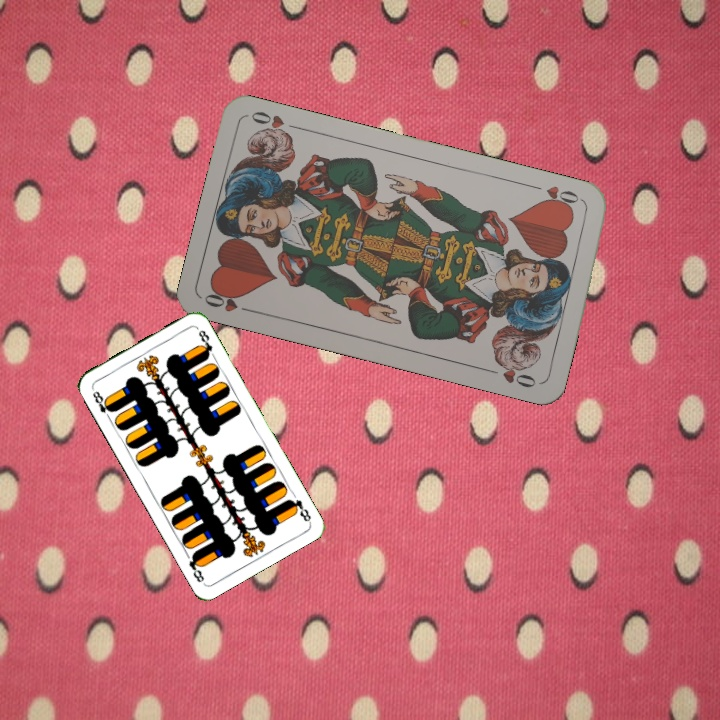E8: (88, 387, 116, 422), (284, 495, 314, 525)
HO: (528, 181, 586, 213), (200, 285, 258, 316)
